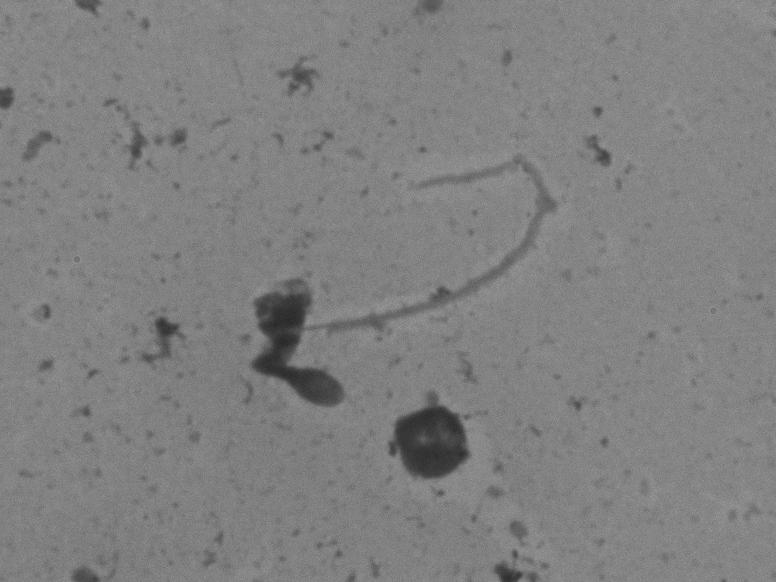Abnormal: (211, 120, 566, 430)
